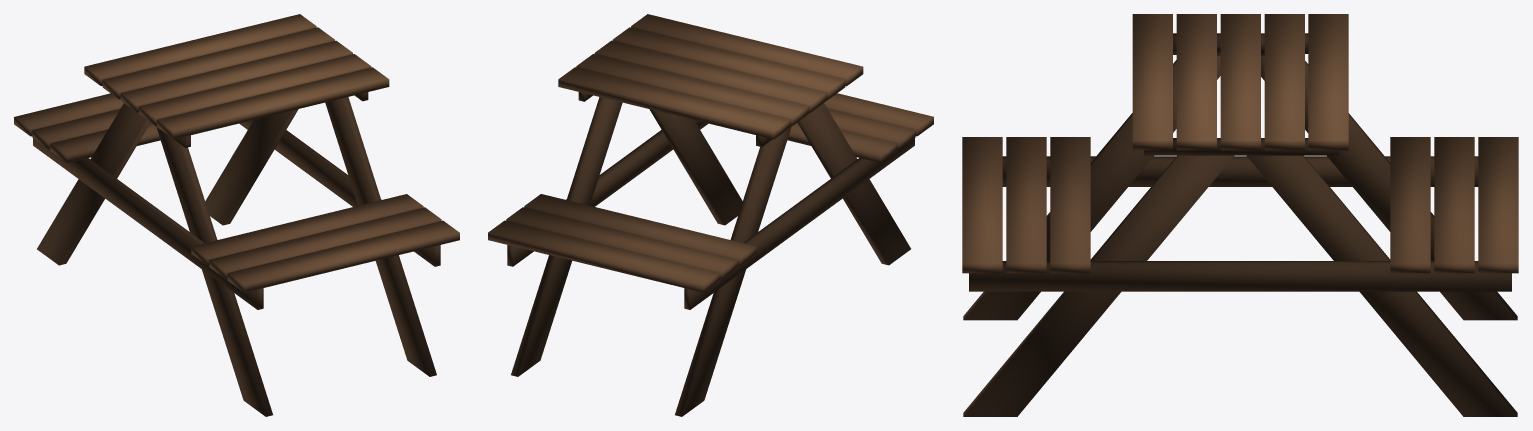
3 renders of one model, left to right at view 1: azimuth 30°, elevation 25°; view 2: azimuth 150°, elevation 25°; view 3: azimuth 270°, elevation 25°, orthographic. The views are drawn at different scales.
Parts seen in each view (by area): view 1: PicnicTable; view 2: PicnicTable; view 3: PicnicTable.
Part boxes in pixels (left/top/right/bottom): PicnicTable: left=14, top=14, right=459, bottom=416; PicnicTable: left=488, top=14, right=933, bottom=416; PicnicTable: left=962, top=14, right=1518, bottom=416.
Bounding box in the file's own units: 0.2706 × 0.2866 × 0.5.
